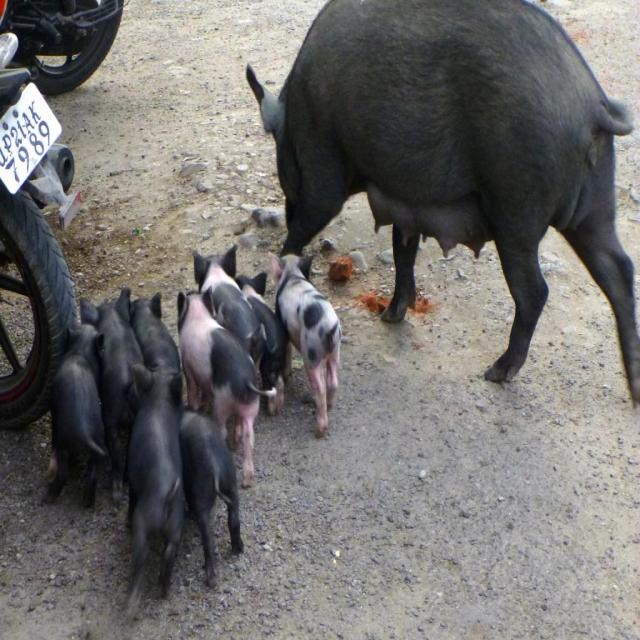Pig: (41, 0, 640, 621)
